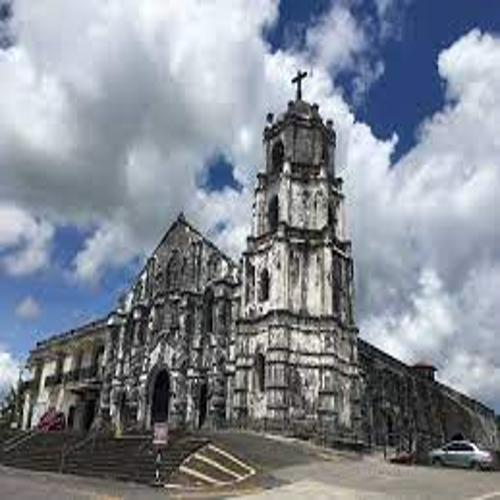Daraga Church: (94, 62, 360, 437)
